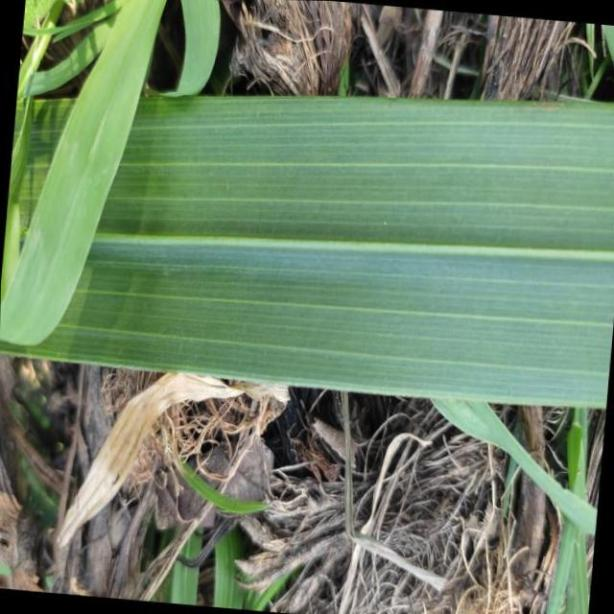Healthy: (3, 92, 614, 407)
